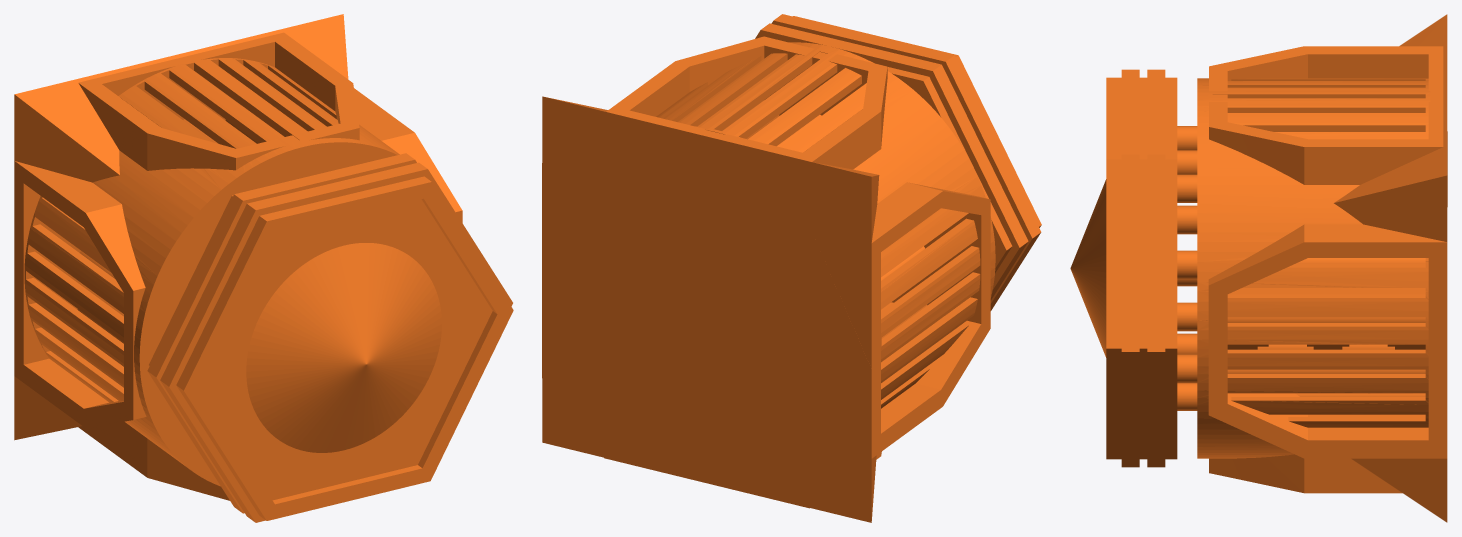
File: ether_generator_mk1.obj
3 views of the same model, side by side, from view 1: azimuth 30°, elevation 25°; view 2: azimuth 150°, elevation 25°; view 3: azimuth 270°, elevation 25° (orthographic).
Visible parts, largest first — view 1: Object.1; view 2: Object.1; view 3: Object.1.
Boxes of the visible parts, <box> form: Object.1: <box>14,14,513,522</box>; Object.1: <box>542,14,1041,522</box>; Object.1: <box>1070,14,1447,522</box>.
Size of the model in its own units: 41.81 by 40.22 by 39.5.
